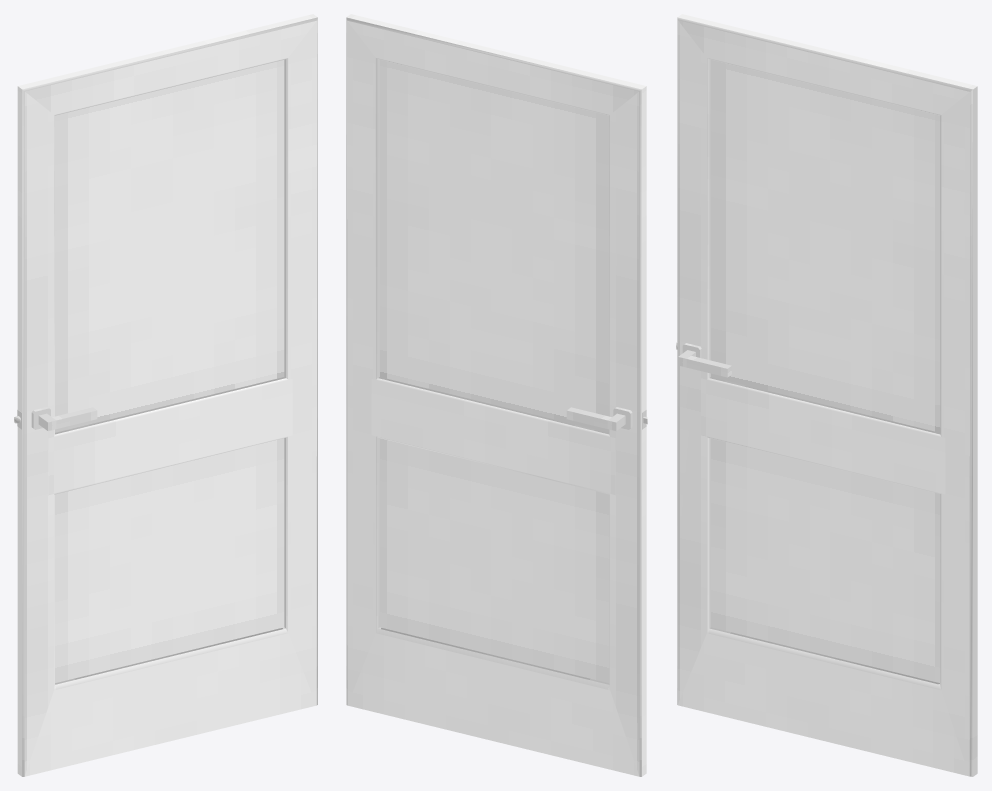
File: DoorTwoPanel.glb
3 views of the same model, side by side, from view 1: azimuth 30°, elevation 25°; view 2: azimuth 150°, elevation 25°; view 3: azimuth 330°, elevation 25° (orthographic).
Visible parts, largest first — view 1: DoorTwoPanel; view 2: DoorTwoPanel; view 3: DoorTwoPanel.
Part boxes in pixels (x1,y1,x2,y2): DoorTwoPanel: (14,14,317,776); DoorTwoPanel: (346,14,647,776); DoorTwoPanel: (676,14,977,776).
Size of the model in its own units: 0.9286 by 2.03 by 0.1589.
1 material, 1 textured.
